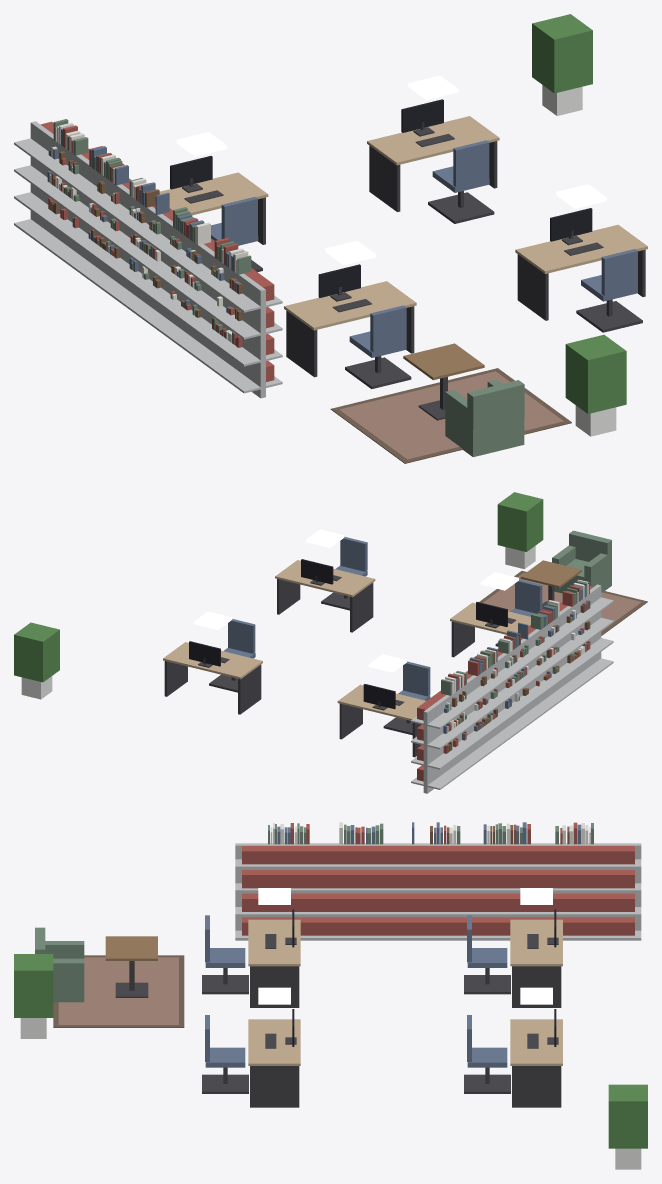
Rendered from fine-s1.glb.
3 views of the same model, one above another, from view 1: azimuth 30°, elevation 25°; view 2: azimuth 150°, elevation 25°; view 3: azimuth 270°, elevation 25° (orthographic). The views are drawn at different scales.
Visible parts, largest first — view 1: soft-s1, shelving.005, shelving.001, office-desk-real.001, office-desk-real.002, office-desk-real.003, plant-medium.000, plant-medium.001, sofa.000, shelving.004, shelving.002, shelving.003 (+10 smaller); view 2: soft-s1, shelving.001, shelving.005, office-desk-real.001, office-desk-real.003, shelving.002, plant-medium.000, plant-medium.001, shelving.004, shelving.003, office-desk-real.000, sofa.000 (+10 smaller); view 3: soft-s1, shelving.001, shelving.004, shelving.003, shelving.005, shelving.002, office-desk-real.001, office-desk-real.003, office-desk-real.000, office-desk-real.002, plant-medium.001, plant-medium.000 (+10 smaller).
Part boxes in pixels (x1,y1,x2,y2): soft-s1: (47,119,571,463); shelving.005: (177,242,282,398); shelving.001: (14,121,97,272); office-desk-real.001: (367,99,499,211); office-desk-real.002: (284,264,416,377); office-desk-real.003: (515,208,647,320); plant-medium.000: (565,334,626,436); plant-medium.001: (532,14,592,115); sofa.000: (445,379,524,457); shelving.004: (136,211,219,361); shelving.002: (54,152,138,301); shelving.003: (95,182,178,332); soft-s1: (441,571,647,753); shelving.001: (411,675,490,793); shelving.005: (550,584,613,699); office-desk-real.001: (163,641,262,714); office-desk-real.003: (275,559,375,632); shelving.002: (458,653,521,766); plant-medium.000: (497,492,543,568); plant-medium.001: (14,622,59,699); shelving.004: (520,607,582,720); shelving.003: (489,629,551,730); office-desk-real.000: (337,684,425,757); sofa.000: (552,530,611,593); soft-s1: (53,822,593,1027); shelving.001: (523,843,641,940); shelving.004: (307,843,425,940); shelving.003: (379,843,497,940); shelving.005: (235,843,353,940); shelving.002: (451,843,569,940); office-desk-real.001: (510,1009,562,1107); office-desk-real.003: (248,1009,300,1107); office-desk-real.000: (510,909,562,1007); office-desk-real.002: (248,909,300,1007); plant-medium.001: (608,1084,647,1169); plant-medium.000: (14,954,53,1038).
Bounding box in the file's own units: 8.72 × 1.93 × 9.68.
